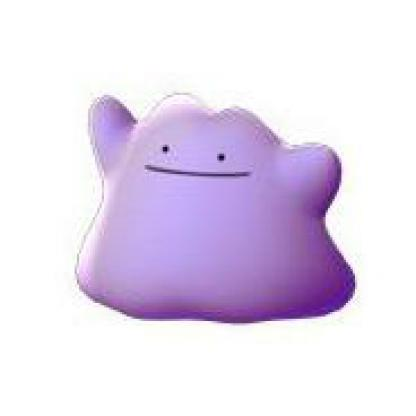Ditto: (51, 35, 415, 415)
